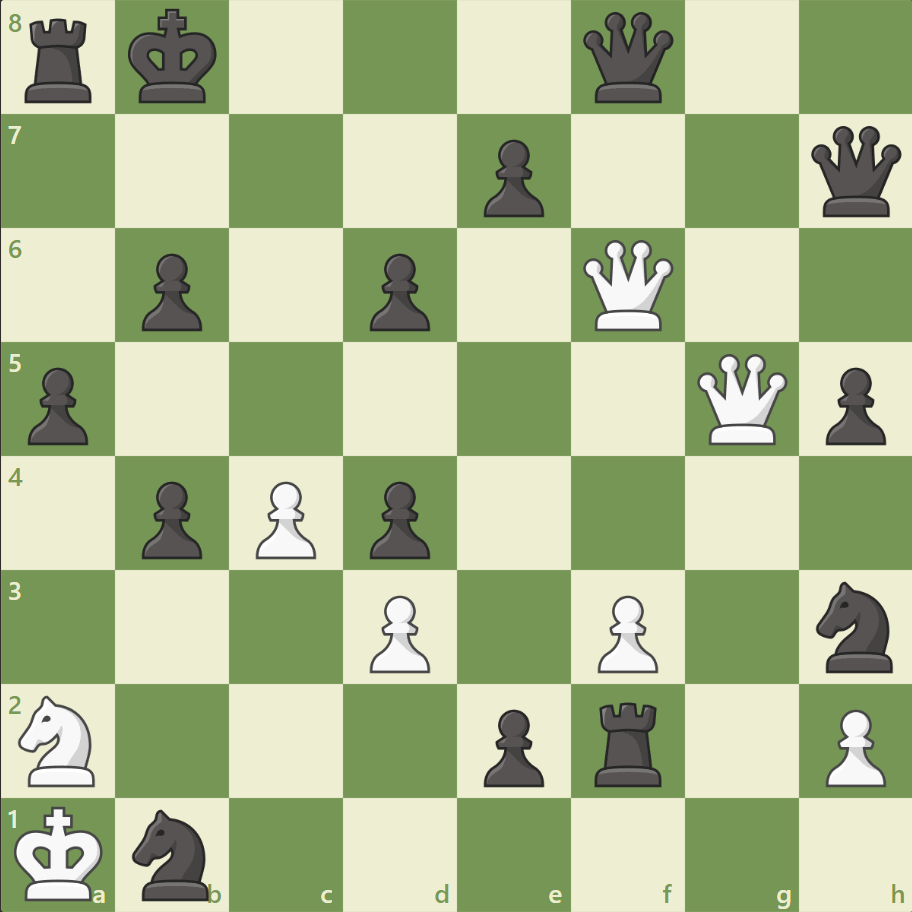K: (11, 798, 111, 906)
N: (11, 688, 108, 791)
P: (247, 473, 322, 564), (361, 586, 435, 677), (588, 586, 662, 677), (815, 700, 889, 791)
Q: (691, 349, 790, 449), (578, 236, 677, 335)
k: (124, 4, 224, 112)
n: (124, 802, 222, 904), (806, 575, 903, 677)
p: (474, 132, 549, 223), (133, 246, 208, 337), (20, 359, 95, 450), (133, 473, 208, 564), (474, 700, 549, 791), (361, 246, 435, 337), (815, 359, 889, 450), (361, 473, 435, 564)
q: (805, 122, 904, 222), (578, 9, 677, 108)
r: (19, 12, 102, 109), (587, 693, 670, 790)
